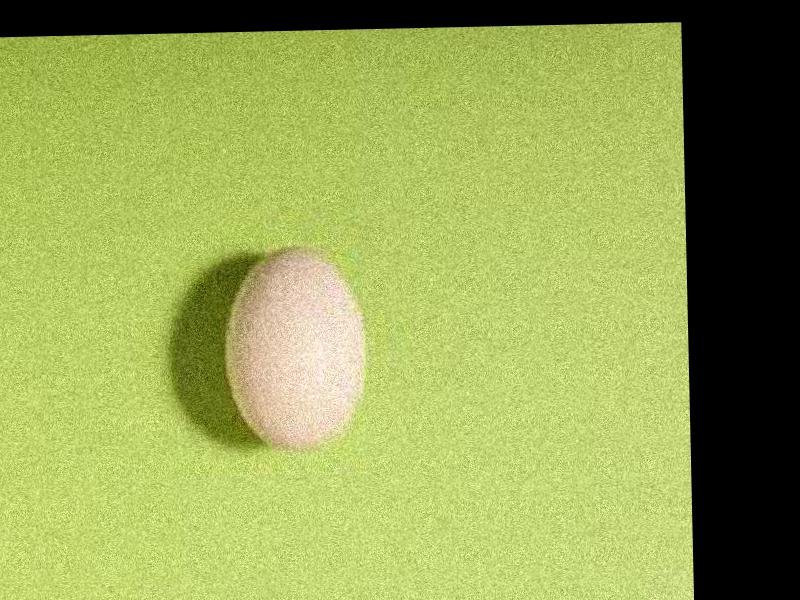Eggs: (223, 242, 364, 451)
